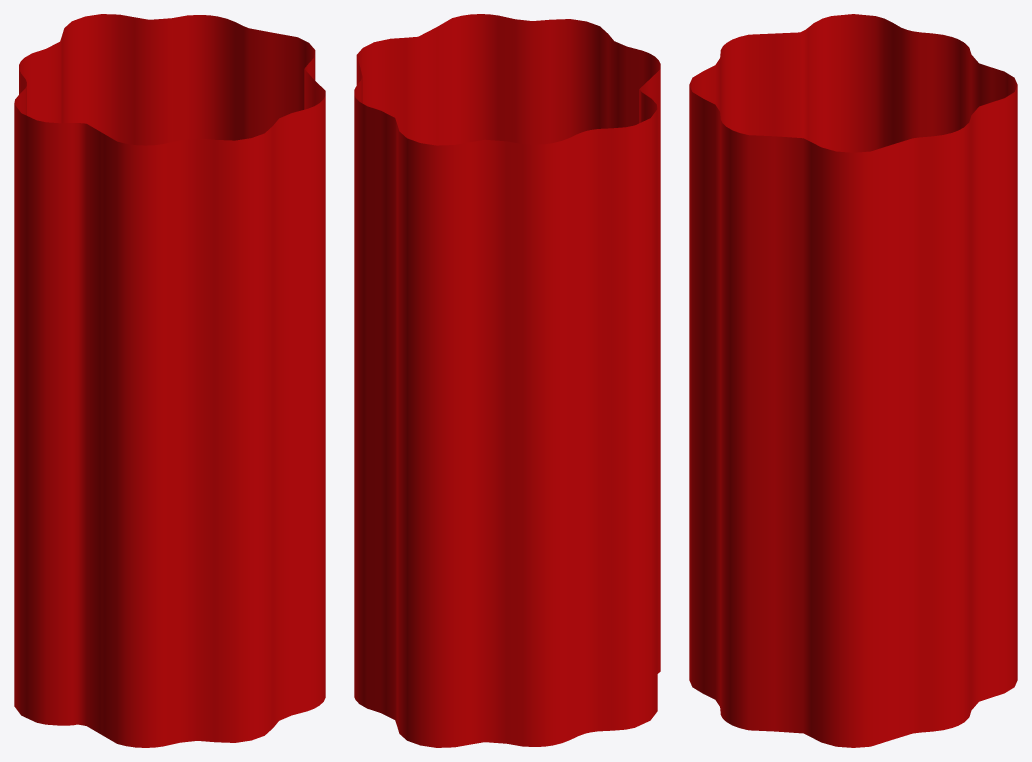
File: licorice_whip_start.glb
3 views of the same model, side by side, from view 1: azimuth 30°, elevation 25°; view 2: azimuth 150°, elevation 25°; view 3: azimuth 270°, elevation 25° (orthographic).
Visible parts, largest first — view 1: Licorice_End; view 2: Licorice_End; view 3: Licorice_End.
Part boxes in pixels (x1,y1,x2,y2): Licorice_End: [14, 14, 325, 747]; Licorice_End: [354, 14, 660, 747]; Licorice_End: [689, 14, 1017, 747].
Bounding box in the file's own units: 0.05 × 0.1 × 0.05.
